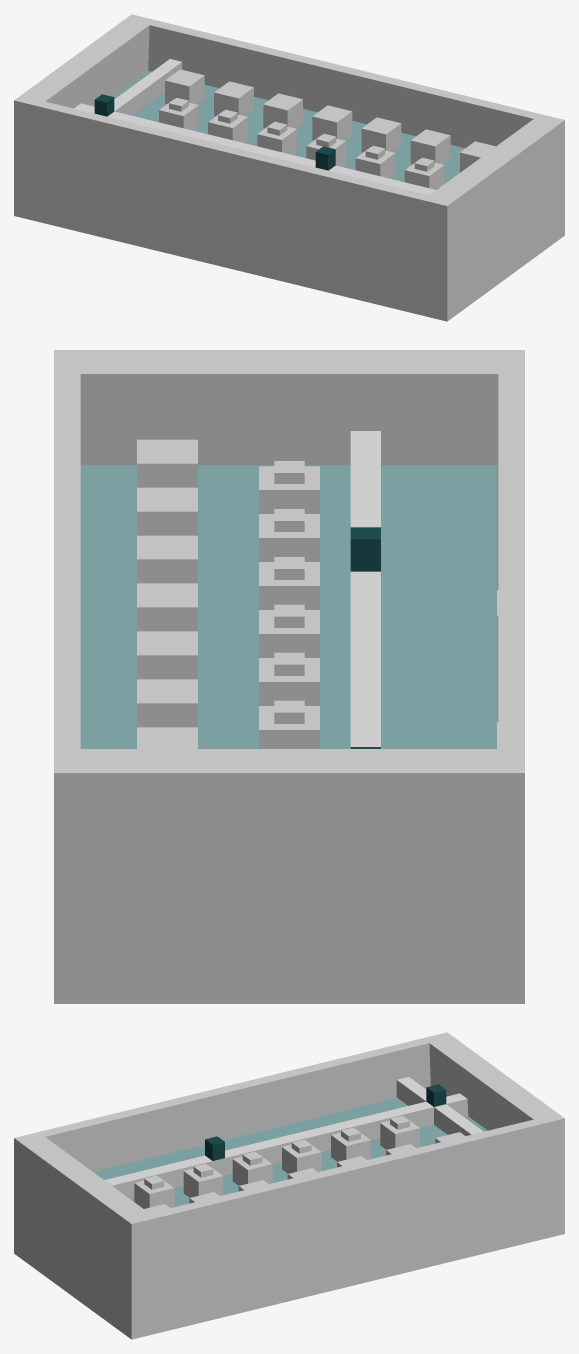
The model's file is 廢水槽.fbx.
3 views of the same model, one above another, from view 1: azimuth 30°, elevation 25°; view 2: azimuth 150°, elevation 25°; view 3: azimuth 270°, elevation 25° (orthographic). The views are drawn at different scales.
Parts seen in each view (by area): view 1: waste water, fountain; view 2: waste water, fountain; view 3: waste water, fountain.
Part boxes in pixels (x1,y1,x2,y2): waste water: [14, 14, 564, 321]; fountain: [113, 71, 464, 183]; waste water: [54, 350, 524, 1003]; fountain: [80, 465, 496, 748]; waste water: [14, 1032, 564, 1339]; fountain: [93, 1098, 487, 1206].
Bounding box in the file's own units: 319 × 89.61 × 387.
